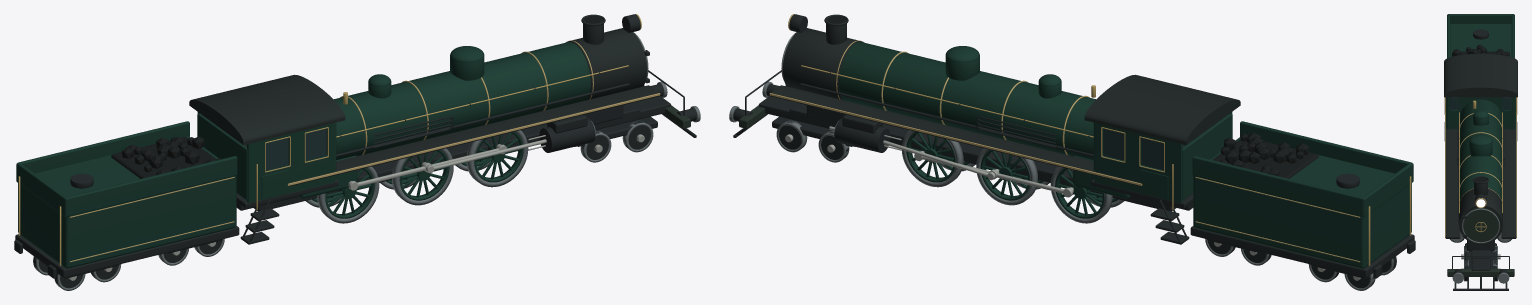
Rendered from steam-cab.glb.
3 views of the same model, side by side, from view 1: azimuth 30°, elevation 25°; view 2: azimuth 150°, elevation 25°; view 3: azimuth 270°, elevation 25° (orthographic). The views are drawn at different scales.
Visible parts, largest first — view 1: body, bogieBack, wheel_driver_right_middle, wheel_driver_right_front, bogieFront, wheel_driver_right_rear, rod_right, main_rod_right; view 2: body, bogieBack, wheel_driver_left_middle, wheel_driver_left_front, bogieFront, wheel_driver_left_rear, rod_left, main_rod_left; view 3: body, bogieBack, bogieFront.
Part boxes in pixels (<box>): body: <box>189,14,700,244</box>; bogieBack: <box>14,121,239,290</box>; wheel_driver_right_middle: <box>392,148,453,205</box>; wheel_driver_right_front: <box>466,130,528,187</box>; bogieFront: <box>574,116,657,162</box>; wheel_driver_right_rear: <box>317,166,379,223</box>; rod_right: <box>348,144,506,190</box>; main_rod_right: <box>426,139,546,173</box>; body: <box>729,14,1240,244</box>; bogieBack: <box>1190,121,1415,290</box>; wheel_driver_left_middle: <box>976,148,1037,205</box>; wheel_driver_left_front: <box>901,130,963,187</box>; bogieFront: <box>772,116,855,162</box>; wheel_driver_left_rear: <box>1050,166,1112,223</box>; rod_left: <box>914,151,1072,197</box>; main_rod_left: <box>883,140,995,180</box>; body: <box>1444,53,1517,290</box>; bogieBack: <box>1447,14,1514,58</box>; bogieFront: <box>1461,243,1500,281</box>.
Size of the model in its own units: 19.98 by 3.92 by 2.9.
